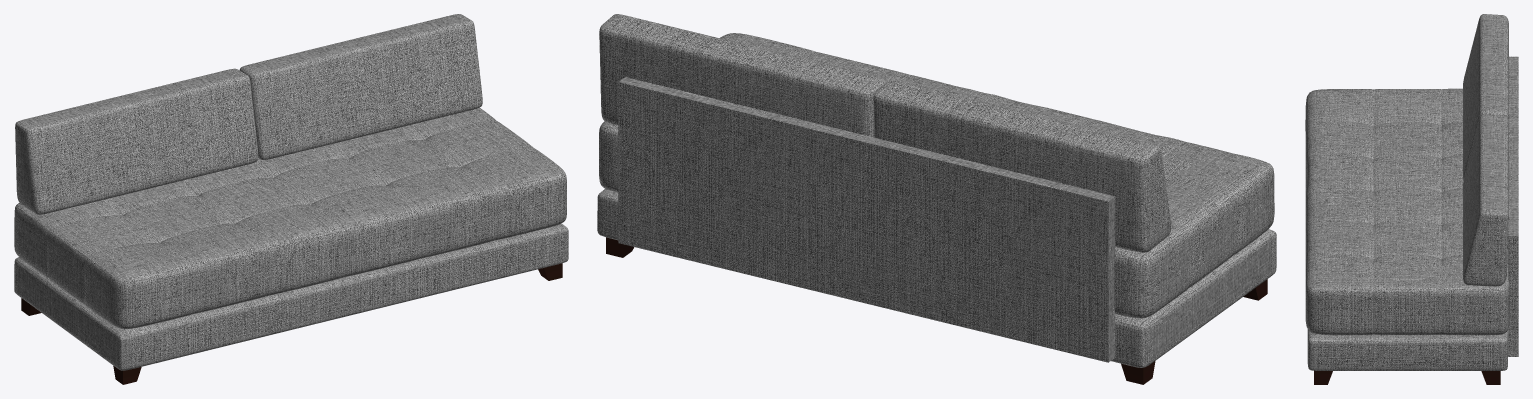
3 renders of one model, left to right at view 1: azimuth 30°, elevation 25°; view 2: azimuth 150°, elevation 25°; view 3: azimuth 270°, elevation 25°, orthographic. The views are drawn at different scales.
Parts seen in each view (by area): view 1: C-skpDF8C, xcm_back; view 2: C-skpDF8C, xcm_back; view 3: C-skpDF8C, xcm_back.
Boxes of the visible parts, x1=… form: C-skpDF8C: x1=14, y1=107, x2=568, y2=384; xcm_back: x1=15, y1=14, x2=482, y2=214; C-skpDF8C: x1=597, y1=33, x2=1276, y2=384; xcm_back: x1=599, y1=14, x2=1170, y2=252; C-skpDF8C: x1=1305, y1=56, x2=1518, y2=384; xcm_back: x1=1463, y1=14, x2=1508, y2=286.
Size of the model in its own units: 1.8 by 0.72 by 0.8.
2 materials, 2 textured.
